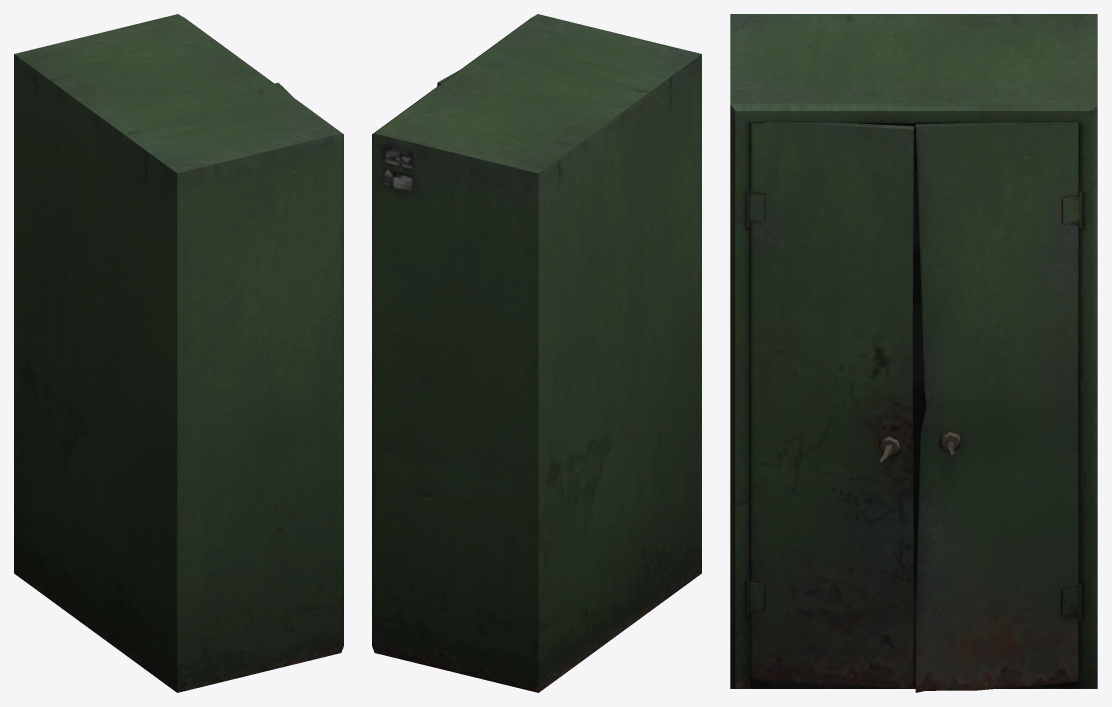
3 renders of one model, left to right at view 1: azimuth 30°, elevation 25°; view 2: azimuth 150°, elevation 25°; view 3: azimuth 270°, elevation 25°, orthographic. The views are drawn at different scales.
Visible parts, largest first — view 1: controlroom_storagecloset001b_reference.smd_0; view 2: controlroom_storagecloset001b_reference.smd_0; view 3: controlroom_storagecloset001b_reference.smd_0.
Part boxes in pixels (left/top/right/bottom): controlroom_storagecloset001b_reference.smd_0: left=14, top=14, right=343, bottom=692; controlroom_storagecloset001b_reference.smd_0: left=372, top=14, right=701, bottom=692; controlroom_storagecloset001b_reference.smd_0: left=730, top=14, right=1097, bottom=692.
Bounding box in the file's own units: 0.6743 × 1.65 × 0.9405.
1 material, 1 textured.
